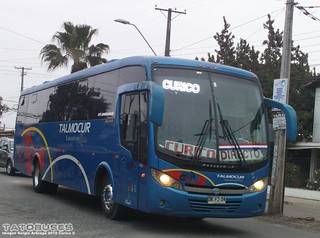bus: (13, 53, 271, 220)
